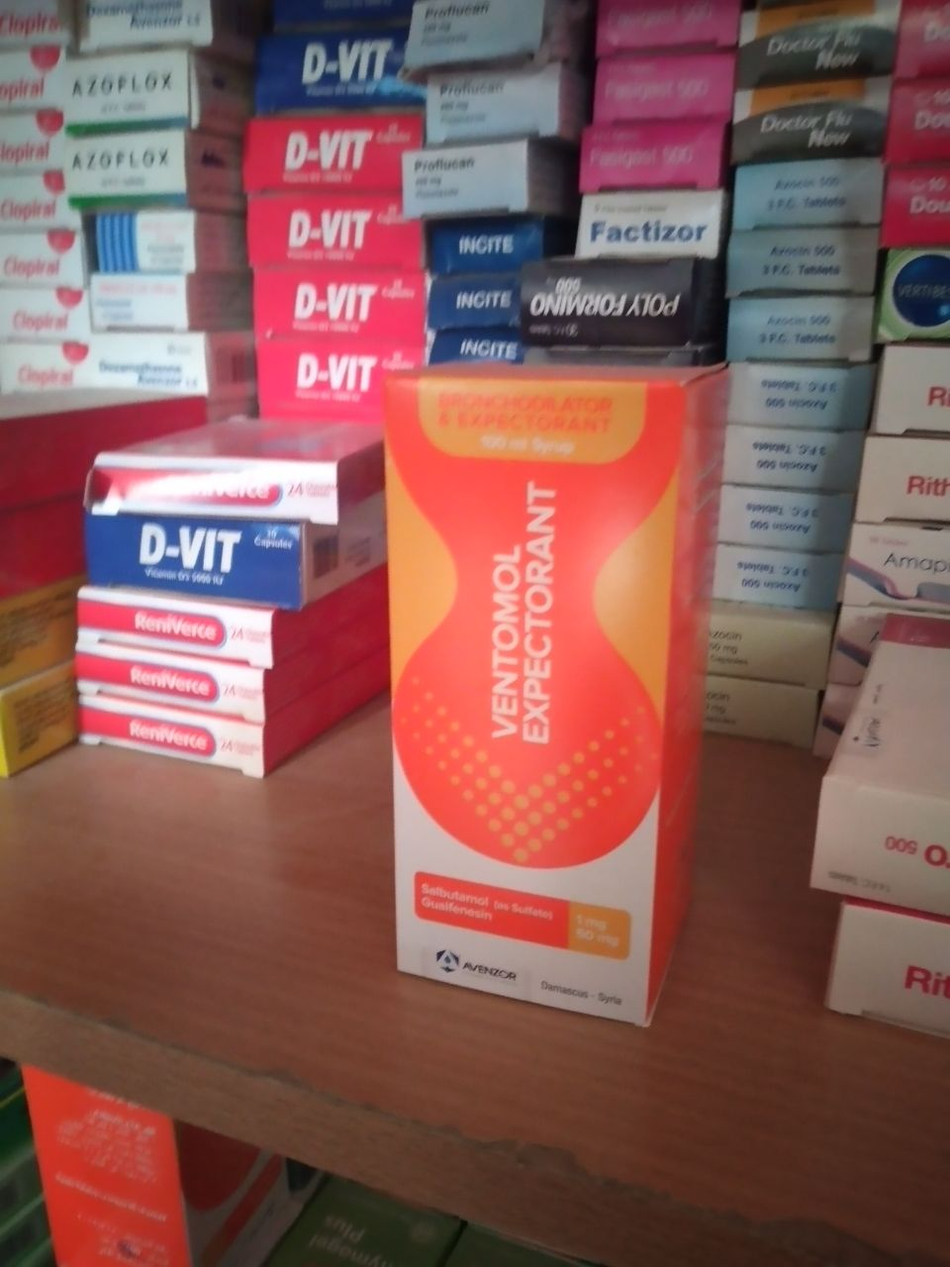Medicine: (369, 360, 713, 1053), (802, 591, 950, 937), (76, 515, 389, 614), (831, 891, 950, 1079), (82, 455, 376, 531), (241, 115, 439, 195), (267, 20, 426, 109), (254, 264, 419, 343), (264, 343, 426, 422), (247, 191, 422, 257)
